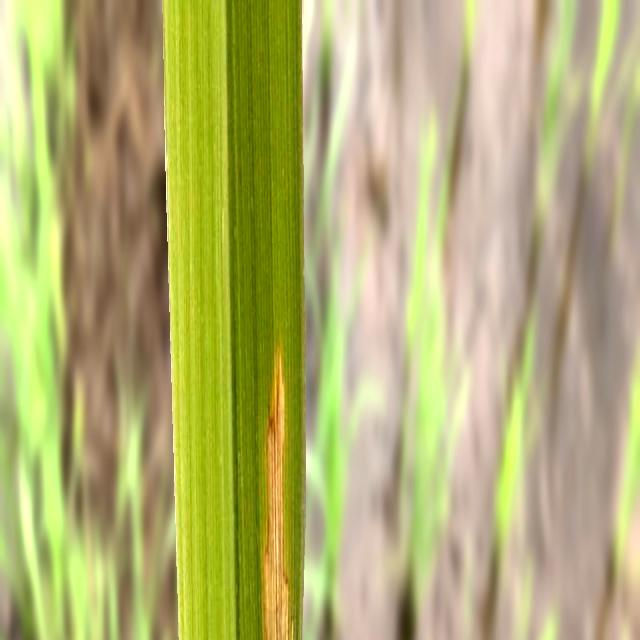BLS: (262, 347, 294, 640)
